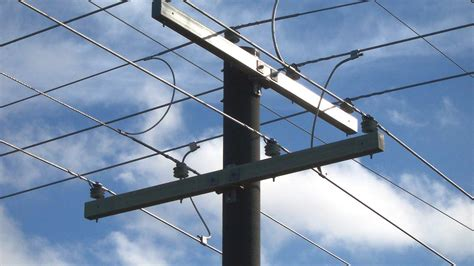pole: (51, 7, 455, 266)
